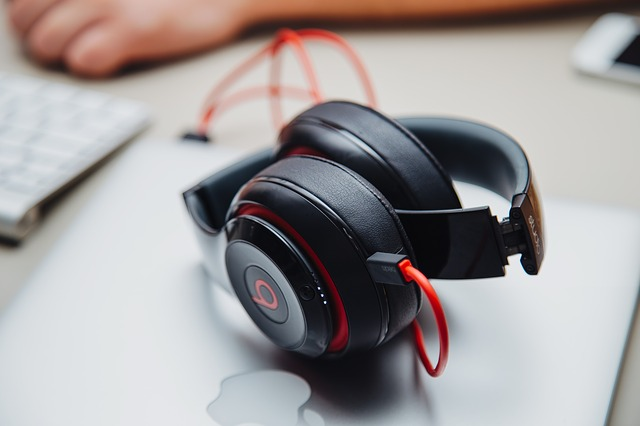headphones: (182, 100, 547, 360)
